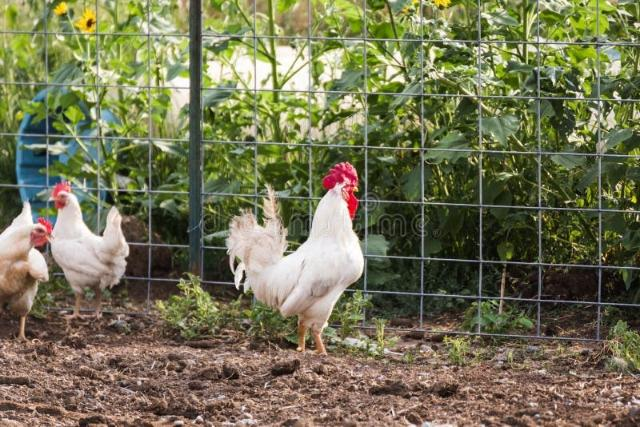Chicken: (226, 162, 364, 359), (49, 182, 129, 321), (0, 201, 55, 342)
